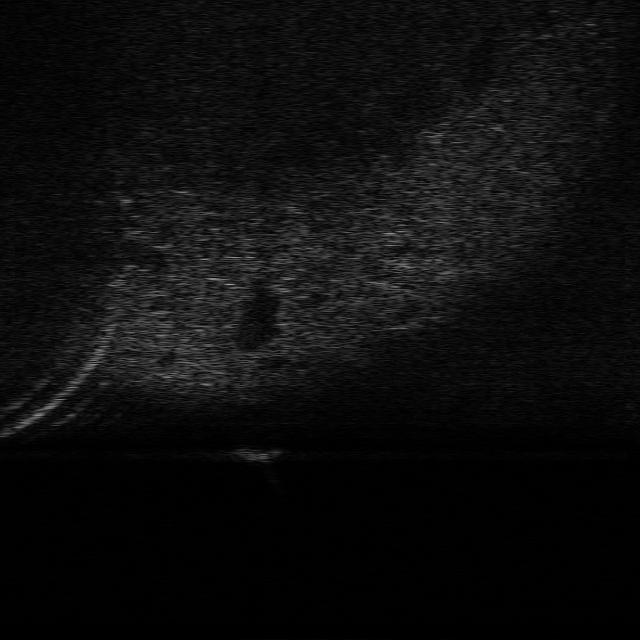cube: (230, 444, 288, 465)
